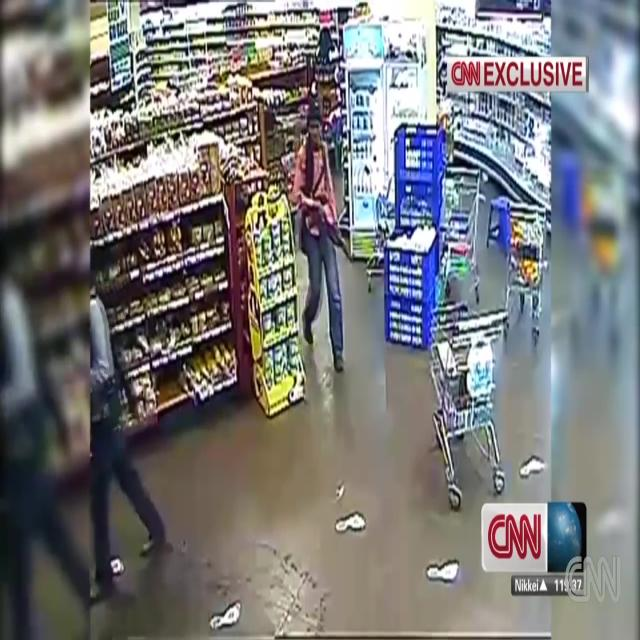Weapon: (304, 182, 357, 270)
